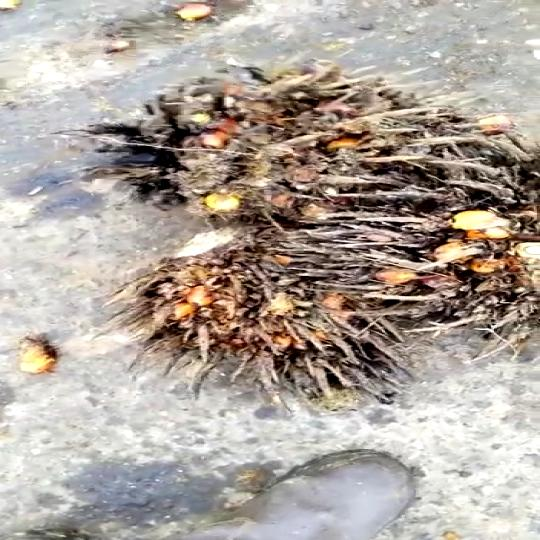terlalu masak: (97, 82, 417, 245), (147, 242, 403, 389)
